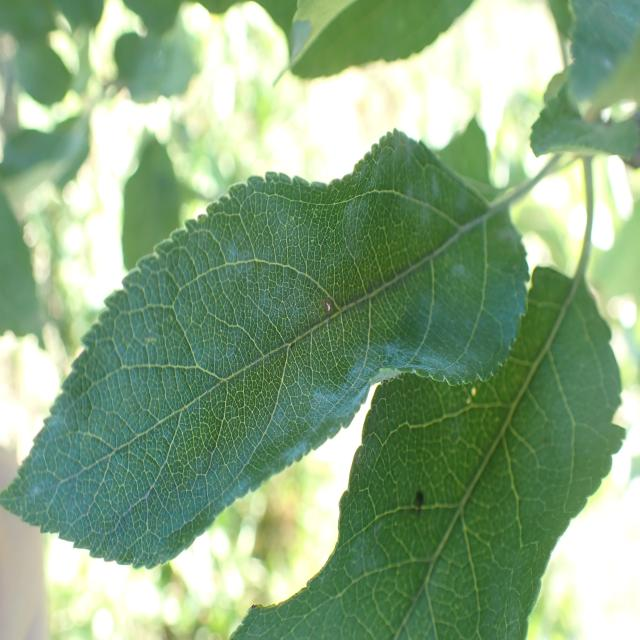Powdery_mildew: (30, 159, 517, 522)
